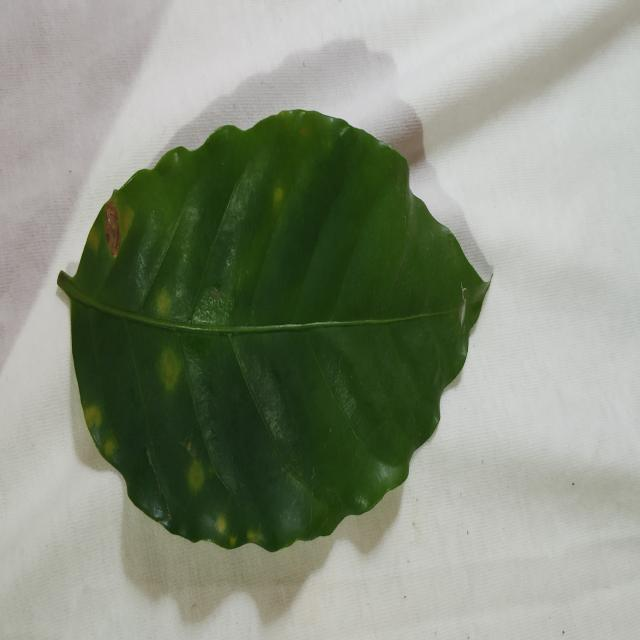Enfermedad-Roya: (56, 111, 491, 554)
